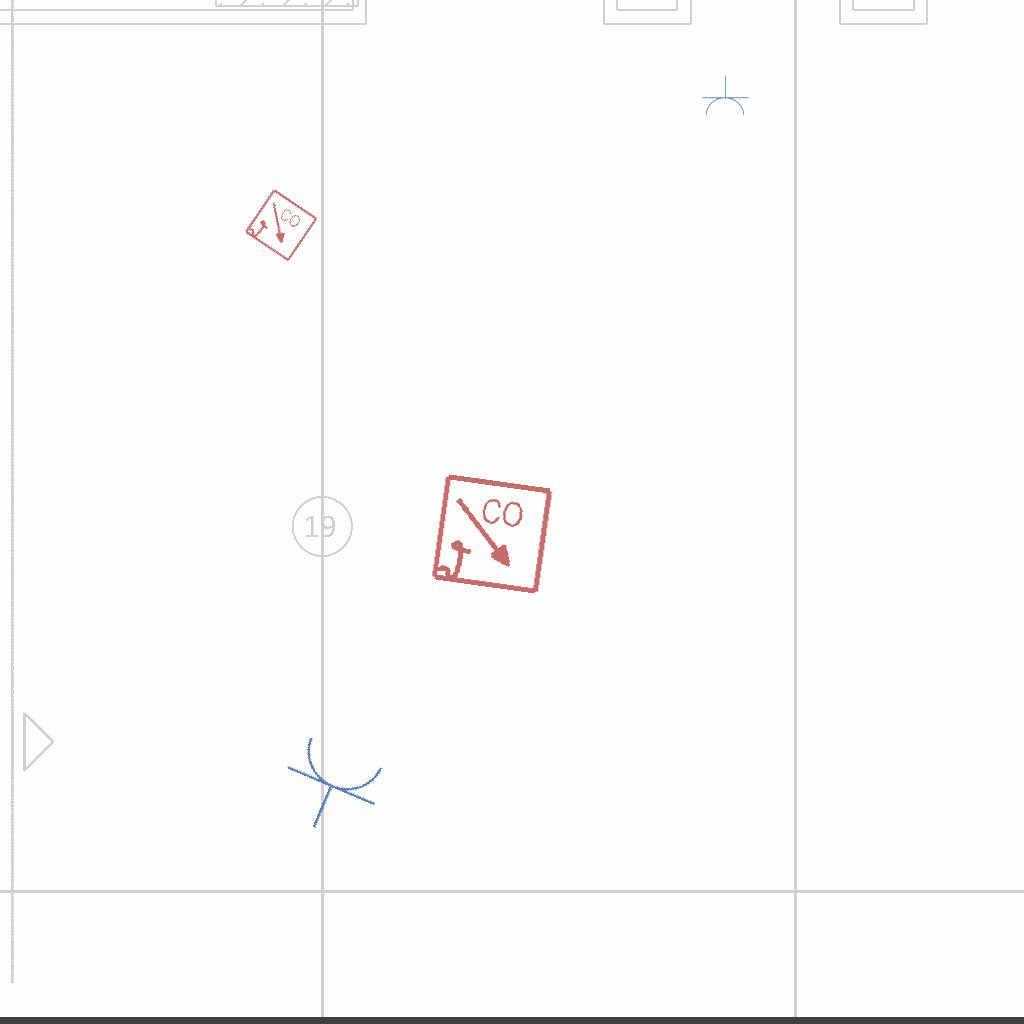ROA_Rauchmelder_optisch_mit_Signalgeber_(Sockelsirene): (428, 471, 557, 600), (242, 187, 320, 265)
Schukosteckdose_einfach: (267, 728, 395, 849), (700, 75, 750, 118)
